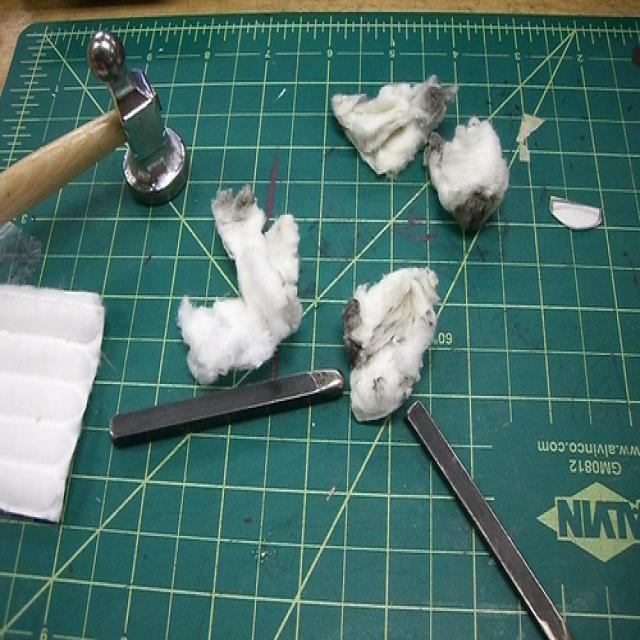hammer: (0, 12, 189, 270)
